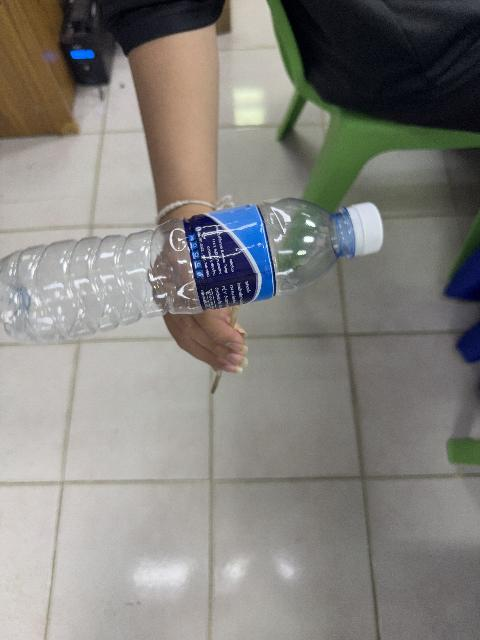bottle: (0, 199, 382, 342)
